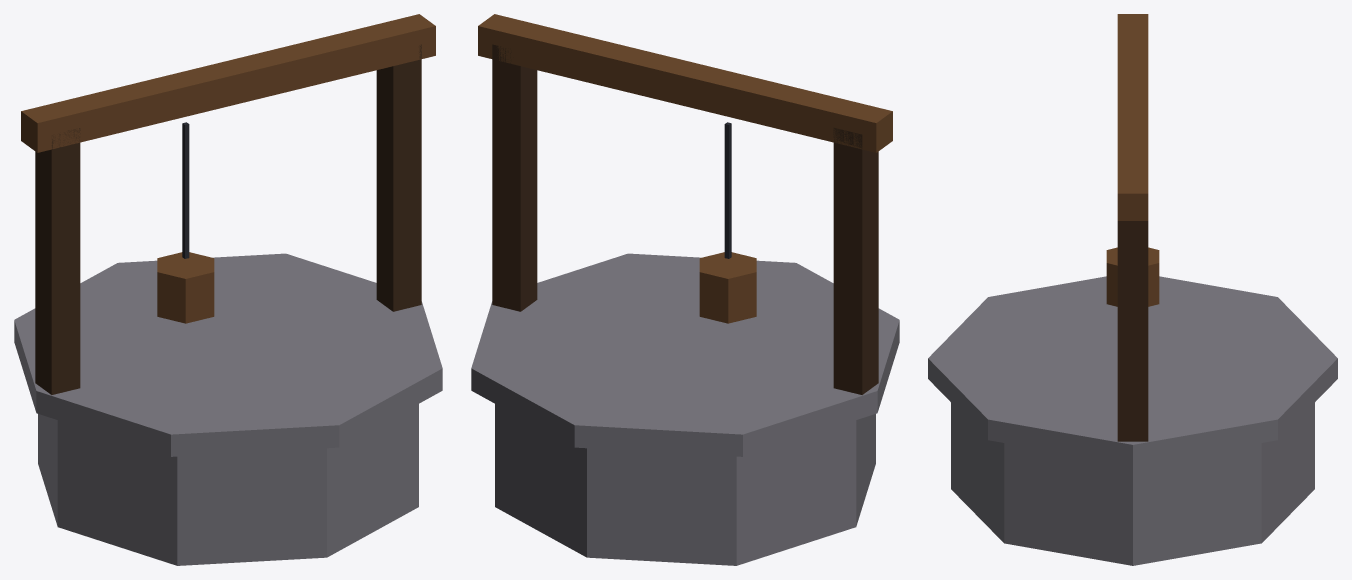
File: well_dry.fbx
3 views of the same model, side by side, from view 1: azimuth 30°, elevation 25°; view 2: azimuth 150°, elevation 25°; view 3: azimuth 270°, elevation 25° (orthographic). The views are drawn at different scales.
Parts seen in each view (by area): view 1: well_dry; view 2: well_dry; view 3: well_dry.
Part boxes in pixels (box(x1,y1,x2,y2)): well_dry: box(14, 14, 442, 565); well_dry: box(471, 14, 899, 565); well_dry: box(928, 14, 1337, 565).
Bounding box in the file's own units: 2.8 × 2.8 × 2.7.
